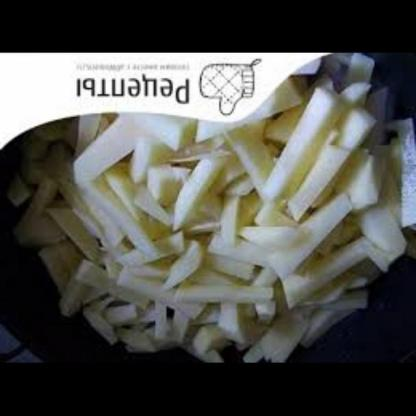potato: (49, 60, 400, 364)
